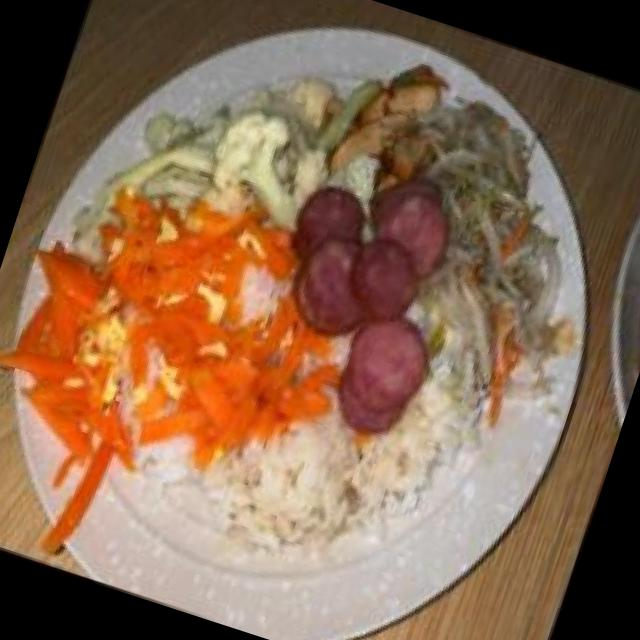carrot_eggs: (0, 157, 312, 488)
chinese_sausage: (238, 142, 486, 448)
mung_bean_sprouts: (367, 87, 626, 360)
rice: (223, 384, 485, 614)
